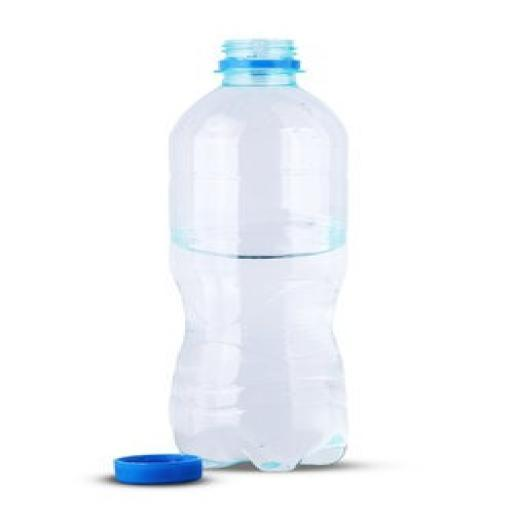bottle: (138, 20, 364, 472)
